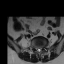CCS_stenosis: (38, 46, 40, 53)
LFS_severe_stenosis: (42, 45, 44, 49)
LLS_normal: (40, 46, 42, 52)
RFS_stenosis: (33, 44, 36, 50)
RLS_normal: (36, 46, 38, 51)
